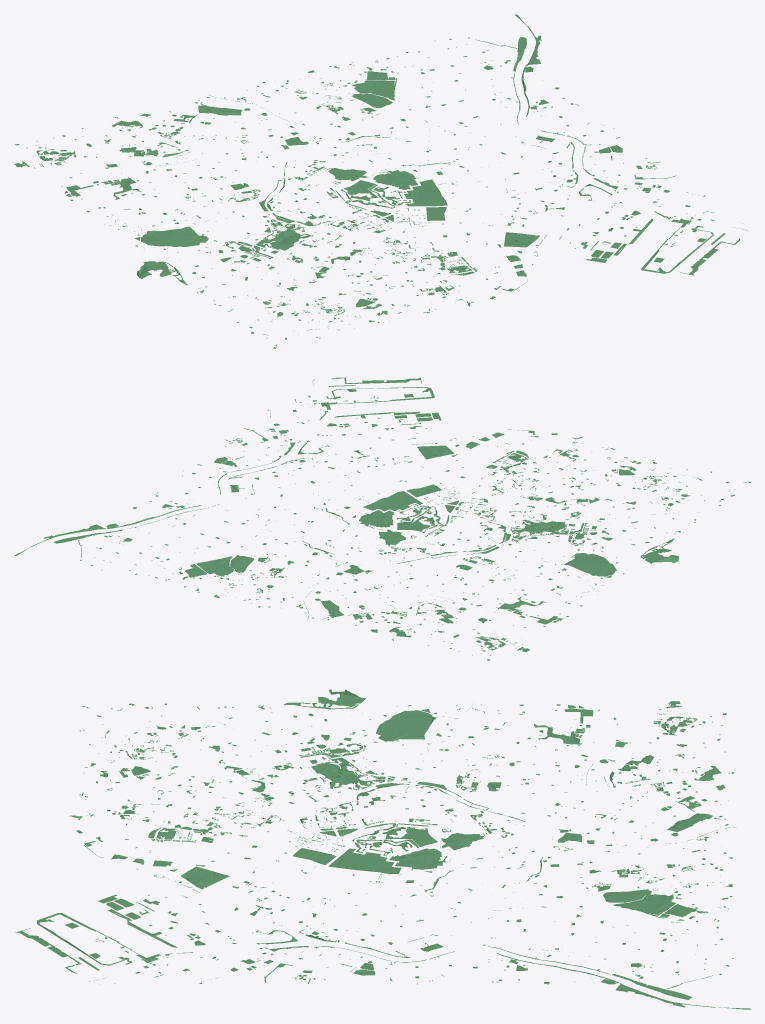
Rendered from green.glb.
The picture shows the model from 3 angles, top to bottom: view 1: azimuth 30°, elevation 25°; view 2: azimuth 150°, elevation 25°; view 3: azimuth 270°, elevation 25°; orthographic projection. The views are drawn at different scales.
Parts seen in each view (by area): view 1: green; view 2: green; view 3: green.
Boxes of the visible parts, x1,y1,x2,y2 form: green: [14, 14, 748, 348]; green: [14, 377, 750, 660]; green: [15, 689, 750, 1009].
Size of the model in its own units: 10349 by 73.27 by 10128.
